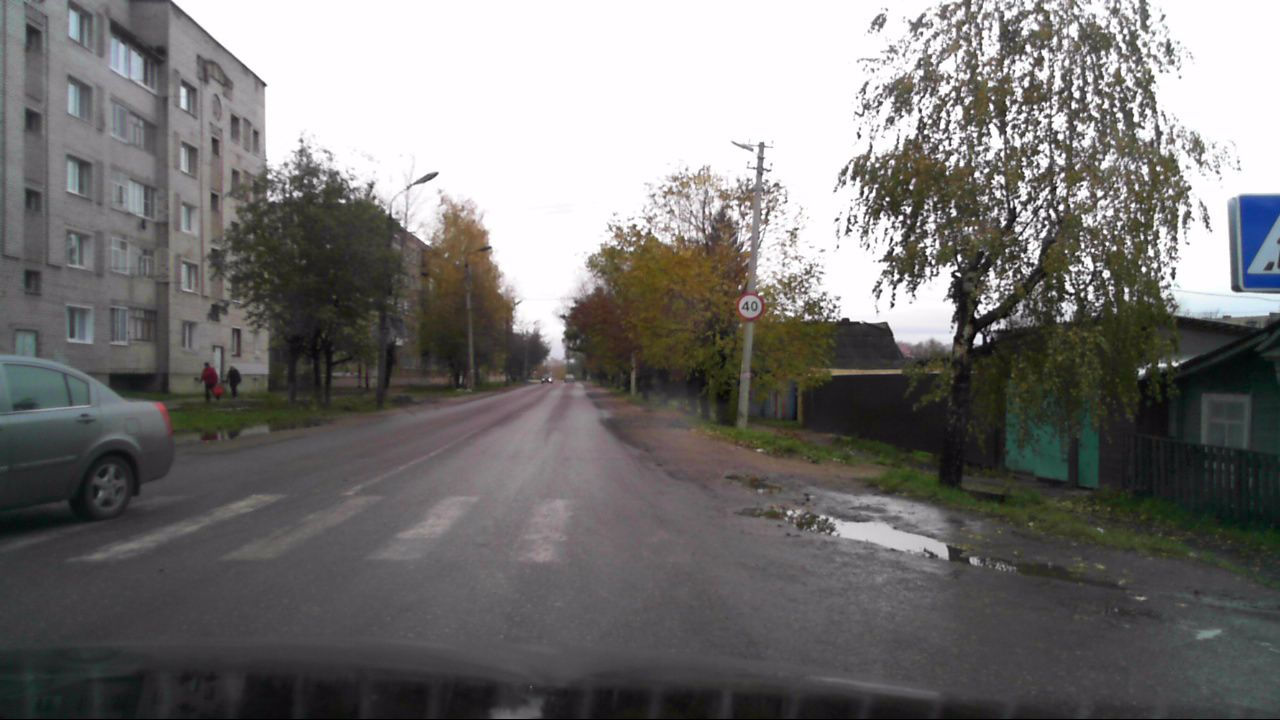speed_warning_40: (736, 292, 763, 321)
